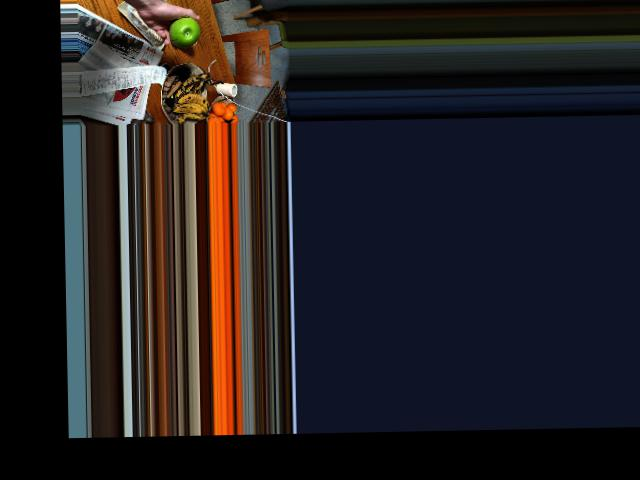apple: (163, 18, 207, 46)
